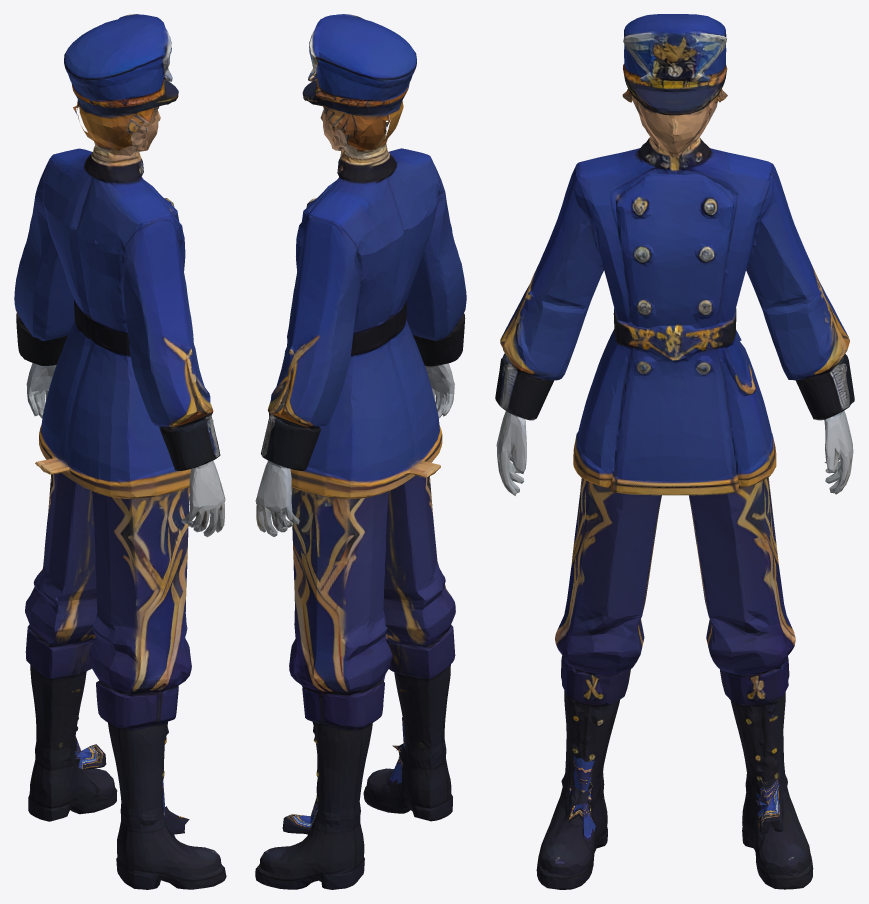
Rendered from 枫丹兵模.glb.
3 renders of one model, left to right at view 1: azimuth 30°, elevation 25°; view 2: azimuth 150°, elevation 25°; view 3: azimuth 270°, elevation 25°, orthographic. The views are drawn at different scales.
Visible parts, largest first — view 1: geometry_0; view 2: geometry_0; view 3: geometry_0.
Part boxes in pixels (x1,y1,x2,y2): geometry_0: (14,14,226,889); geometry_0: (255,14,466,889); geometry_0: (495,14,854,889).
Size of the model in its own units: 0.1719 by 1 by 0.3797.
1 material, 1 textured.
